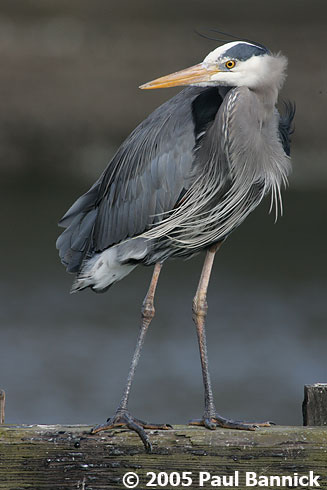heron: (55, 31, 296, 450)
